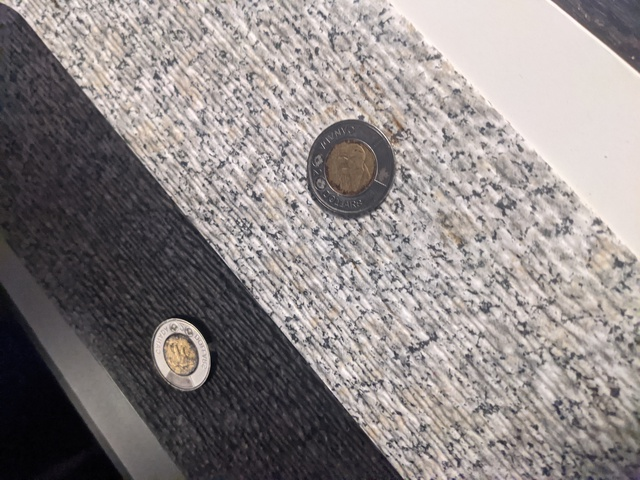twonie: (303, 117, 407, 219), (148, 316, 218, 410)
